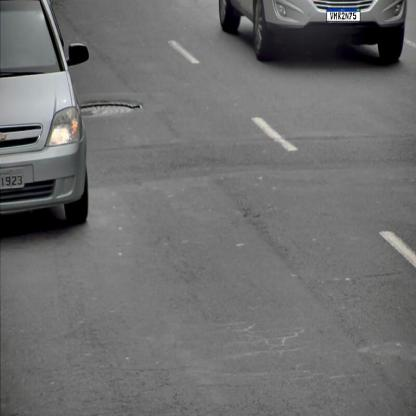PlacaM: (326, 8, 360, 22)
